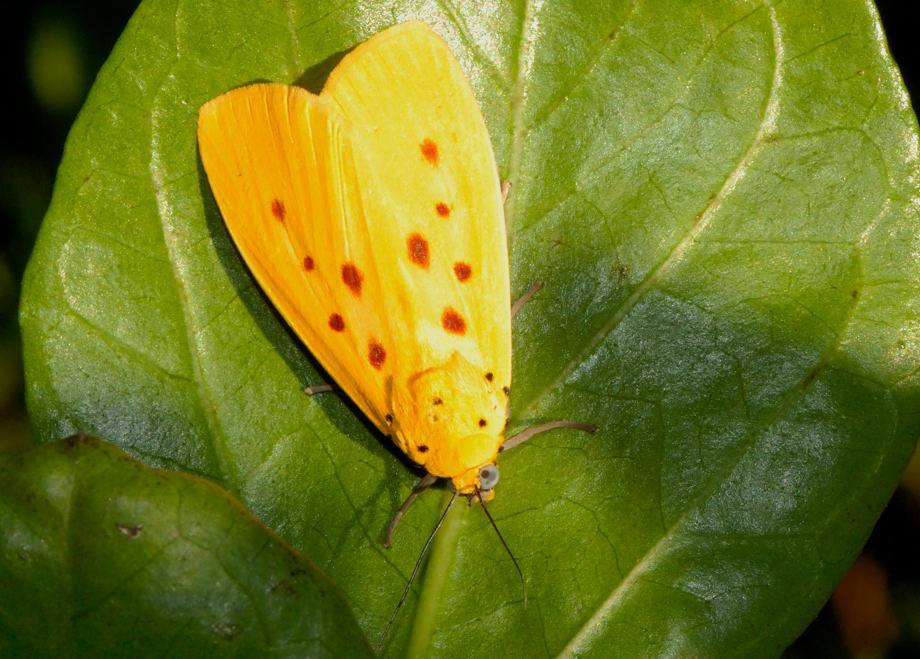Agape chloropyga: (189, 12, 596, 640)
moth: (191, 14, 598, 642)
